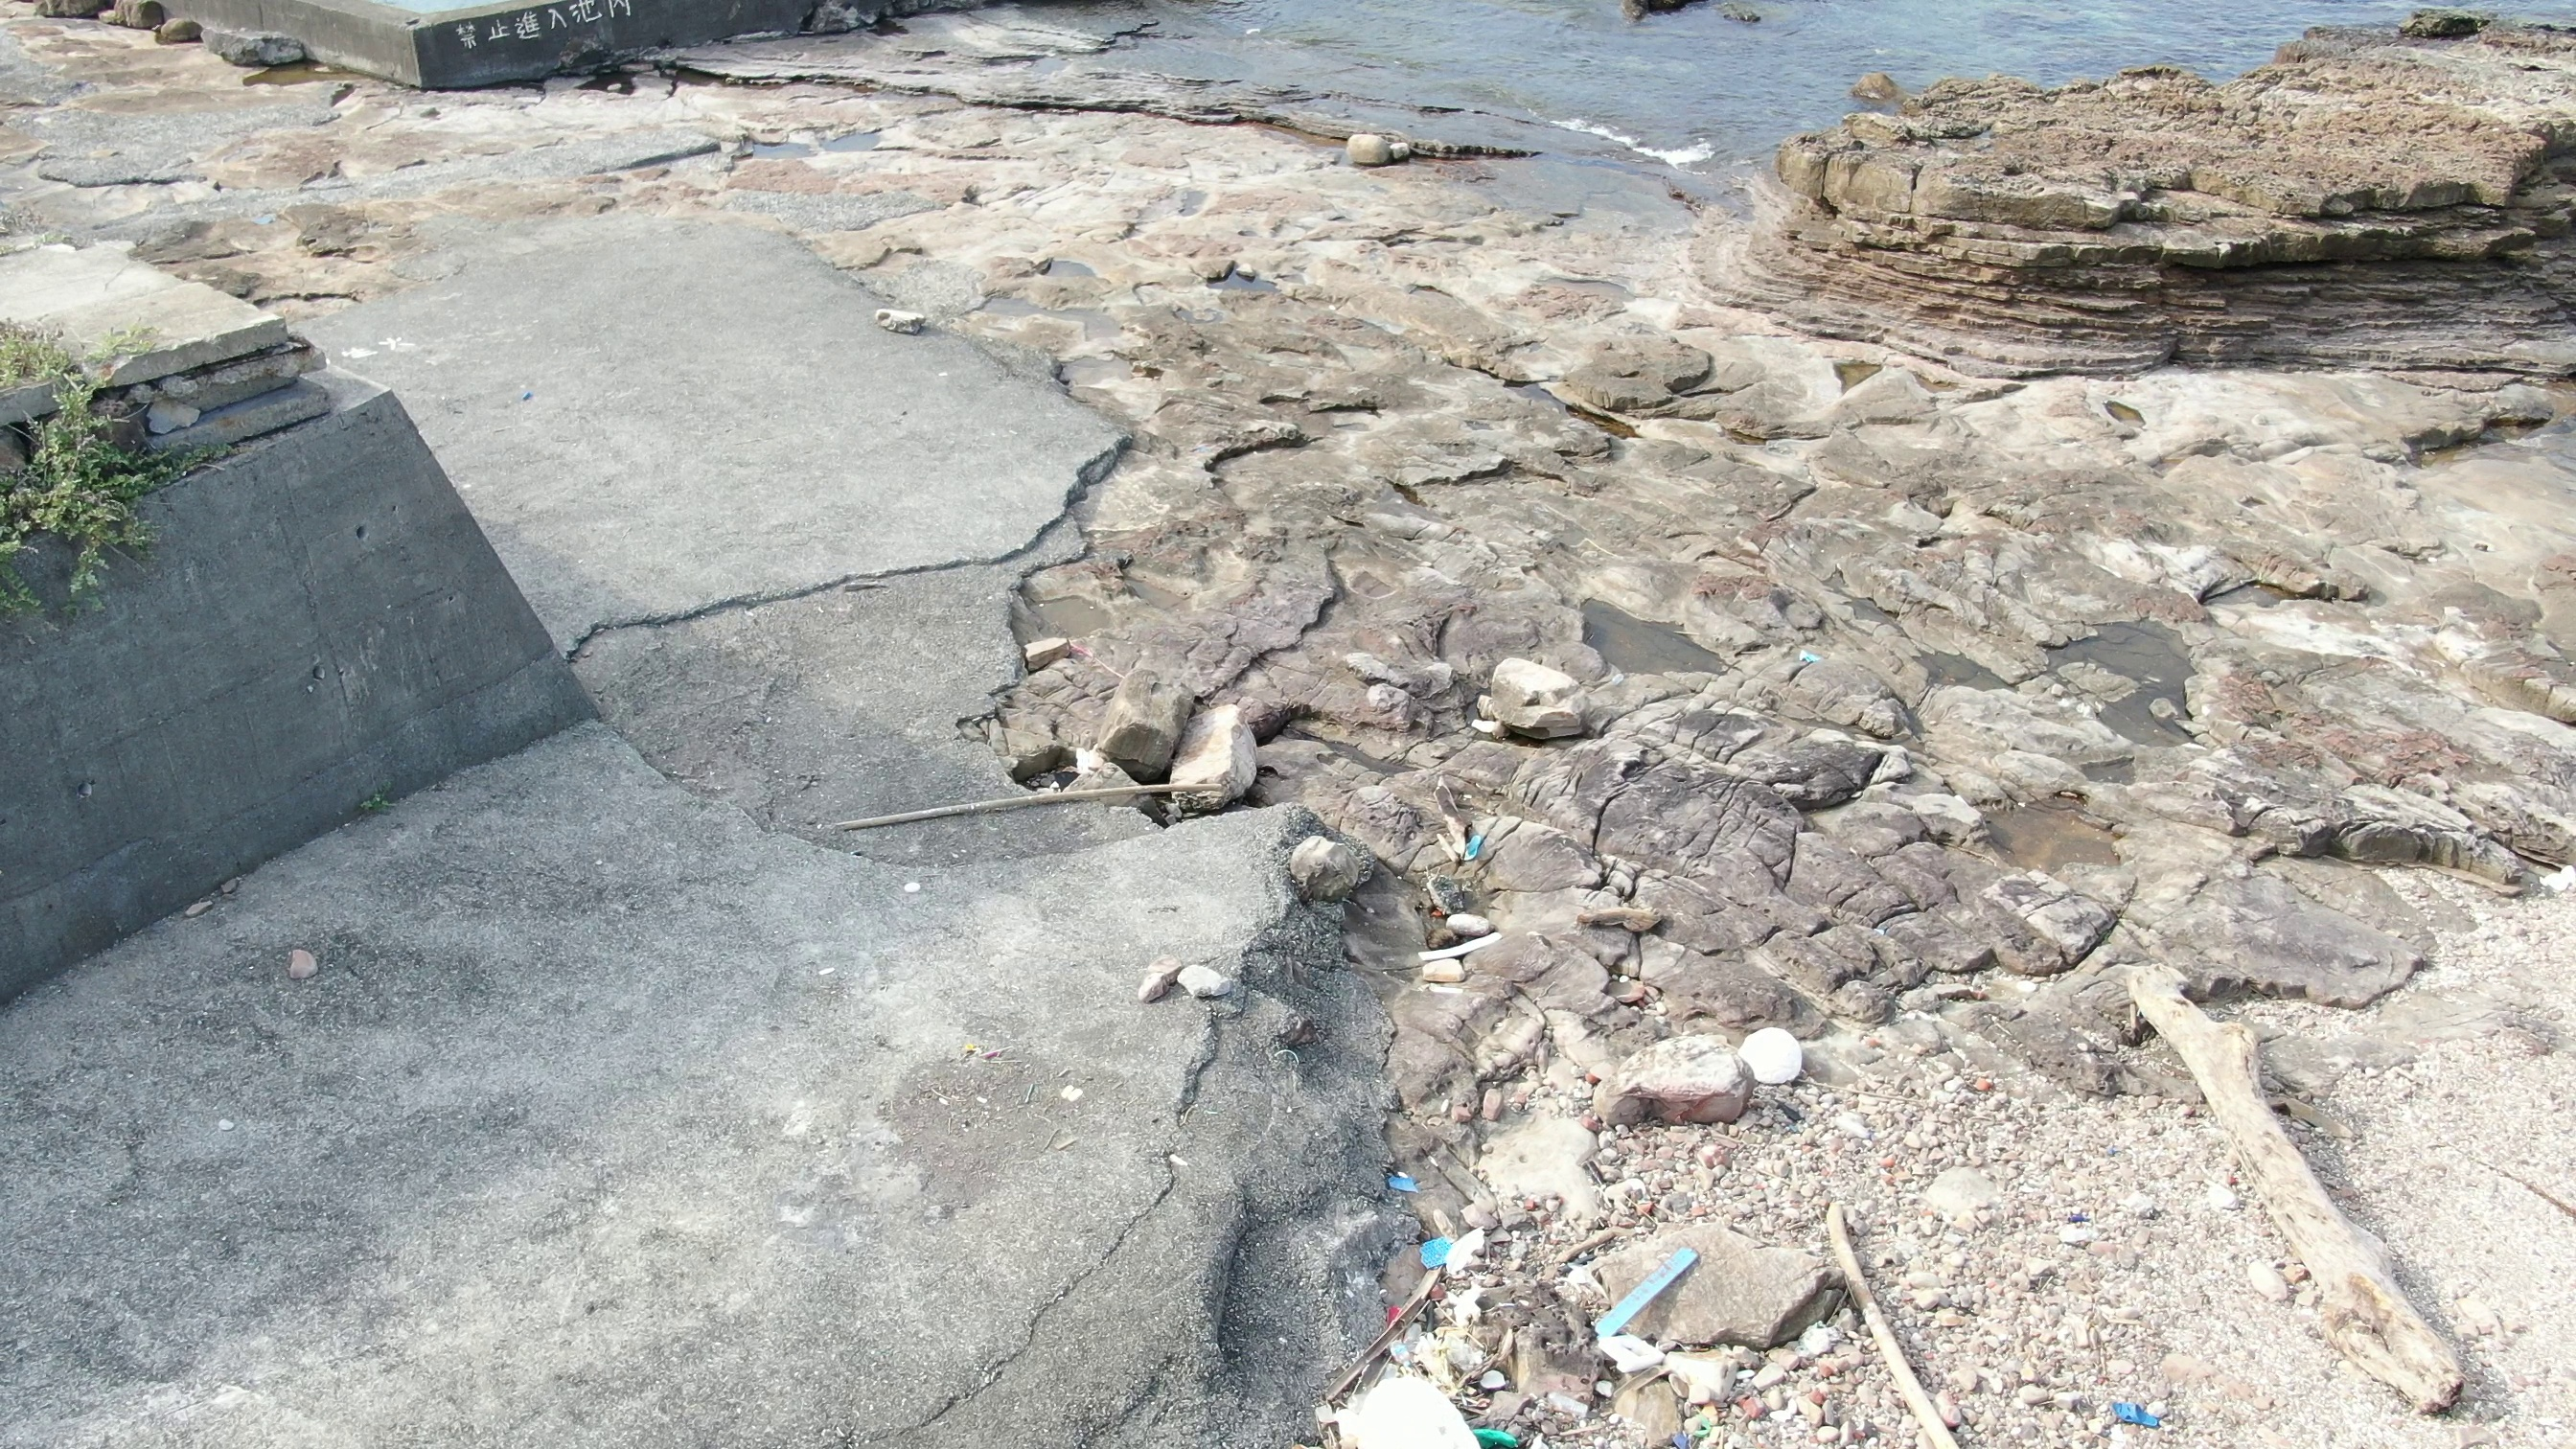garbage: (1580, 1247, 1711, 1385), (1382, 1143, 1465, 1283), (1433, 1408, 1525, 1449), (2102, 1398, 2174, 1437), (1456, 814, 1497, 878), (517, 377, 541, 410)
